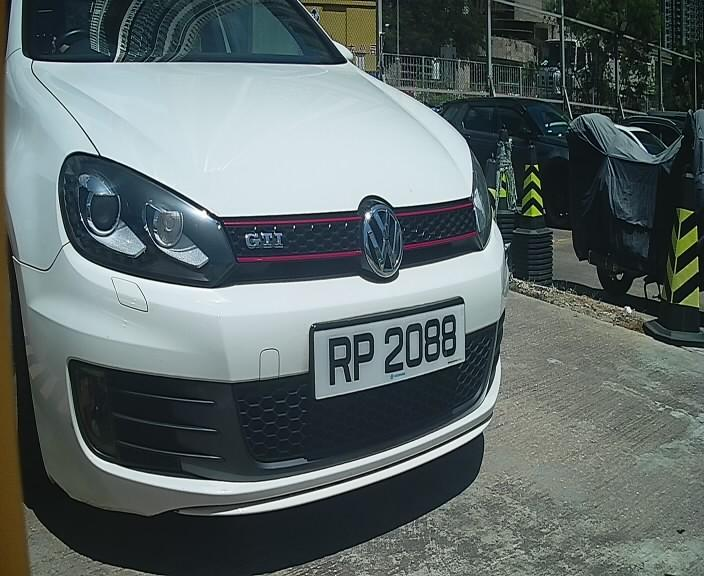License Plate: (302, 299, 472, 397)
